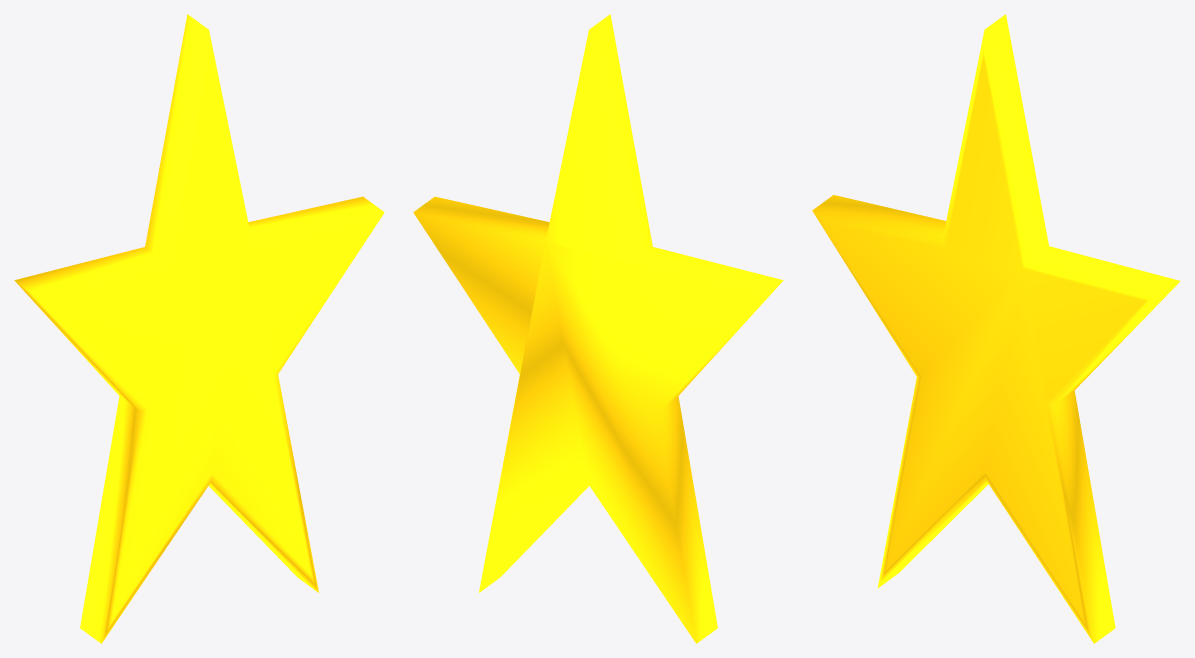
The model's file is star.fbx.
3 views of the same model, side by side, from view 1: azimuth 30°, elevation 25°; view 2: azimuth 150°, elevation 25°; view 3: azimuth 330°, elevation 25° (orthographic).
Visible parts, largest first — view 1: Plane; view 2: Plane; view 3: Plane.
Part boxes in pixels (x1=…): Plane: x1=14, y1=14, x2=384, y2=643; Plane: x1=413, y1=14, x2=783, y2=643; Plane: x1=812, y1=14, x2=1180, y2=643.
Size of the model in its own units: 242 by 392 by 27.32.
